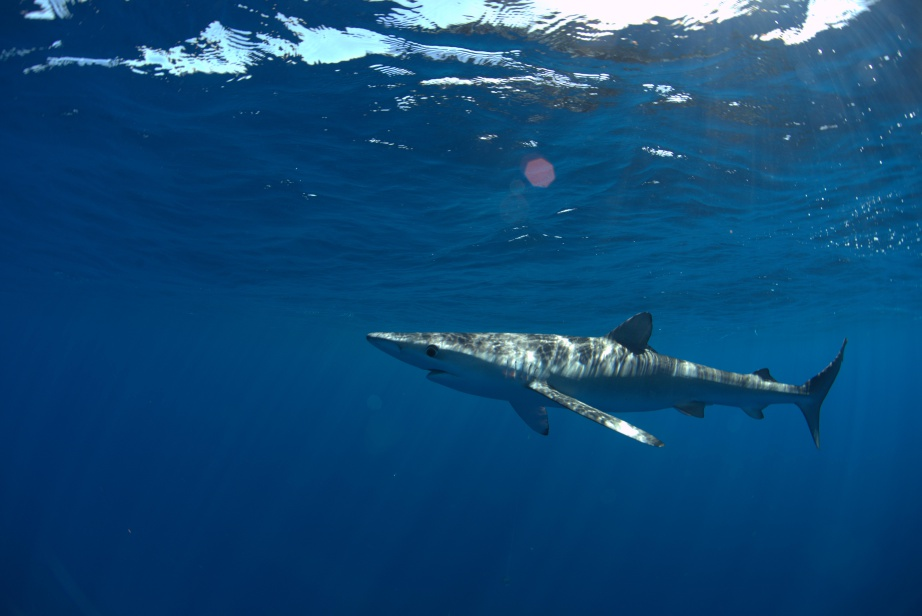Azul: (357, 300, 868, 466)
